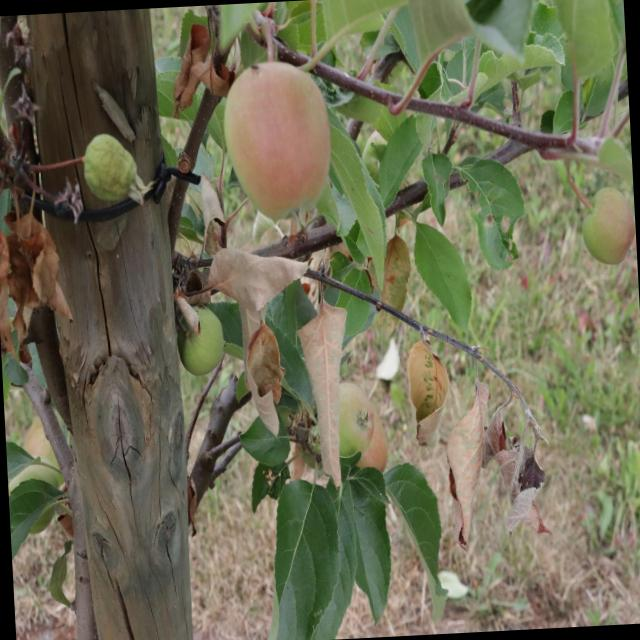-FireBlight-: (0, 210, 74, 339)
